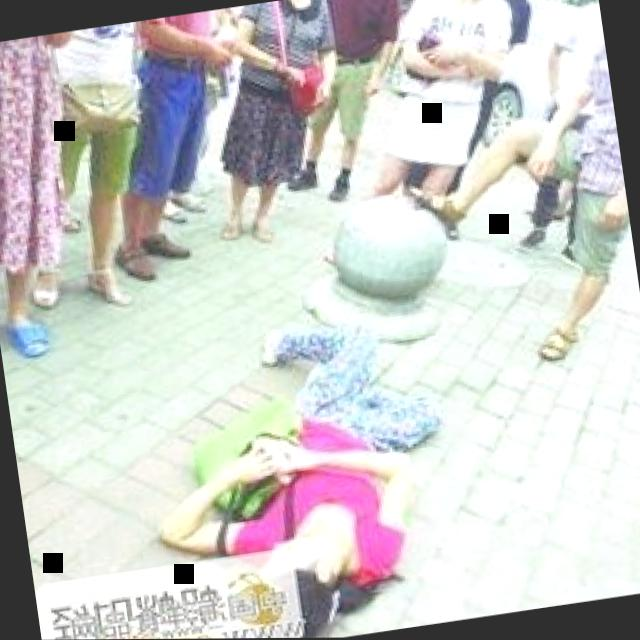Fall-Detected: (135, 279, 487, 639)
